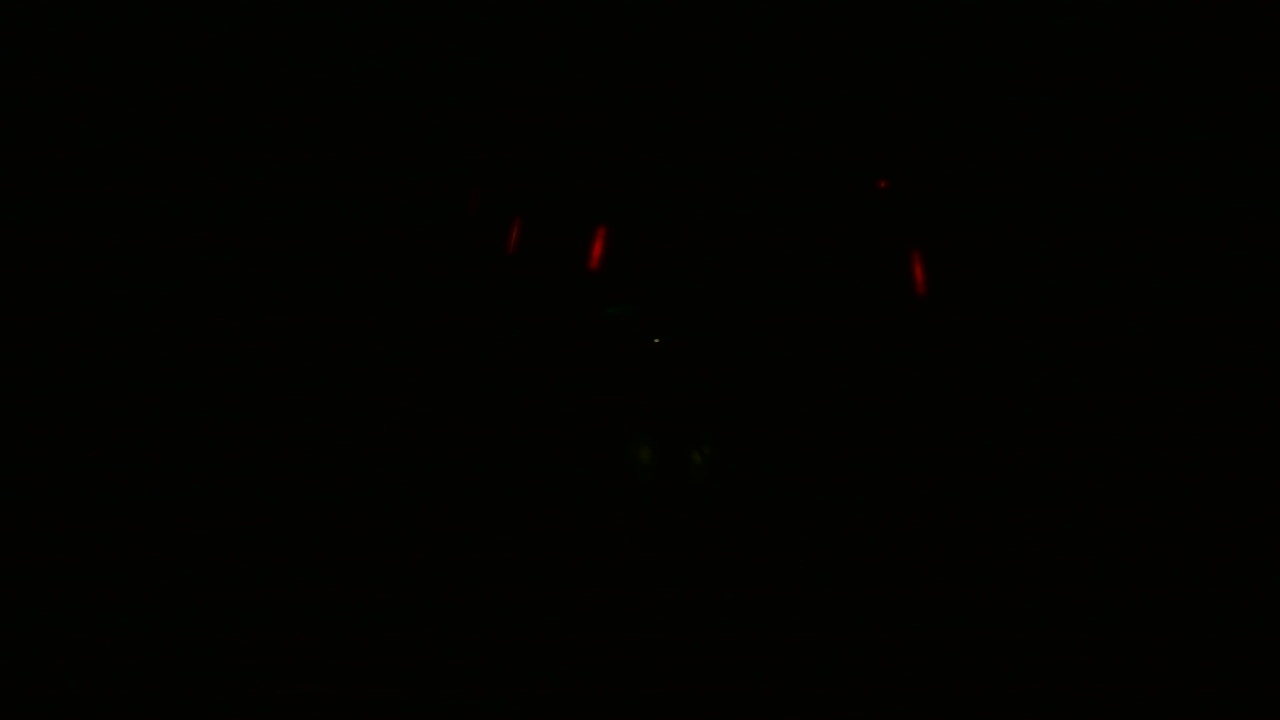pair1: (502, 217, 609, 277)
